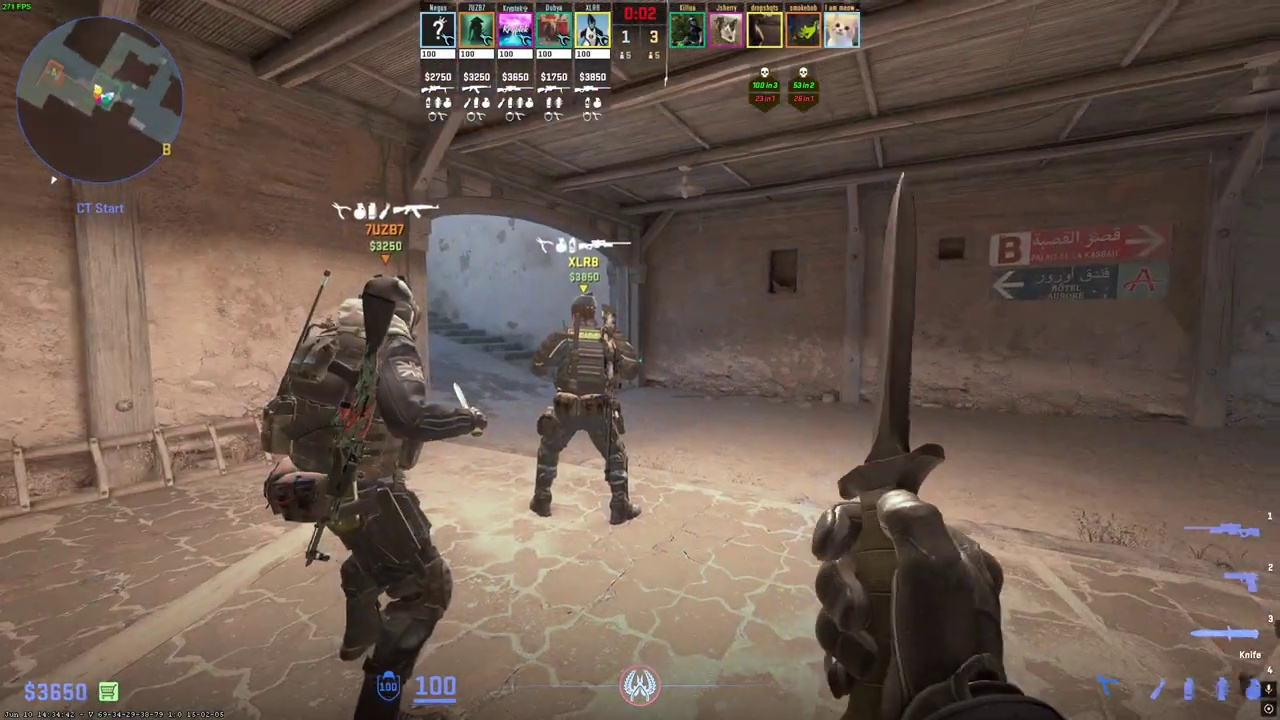CT: (268, 273, 474, 717), (529, 293, 644, 525)
